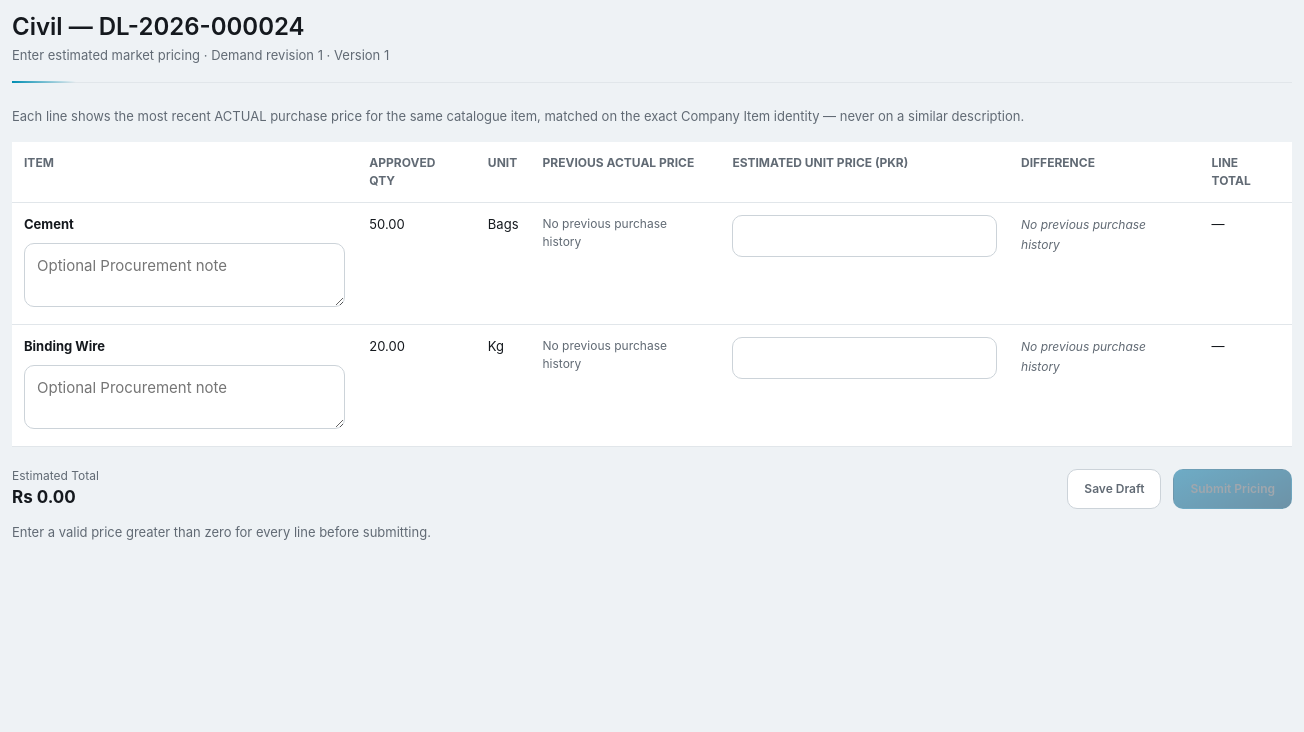
Test: PricingPage › calculates display-only line and overall totals
Type "1450.00" into the field named "Estimated unit price for Cement".
click(865, 236); type("1450.00")  # box 732,215 -> 997,257
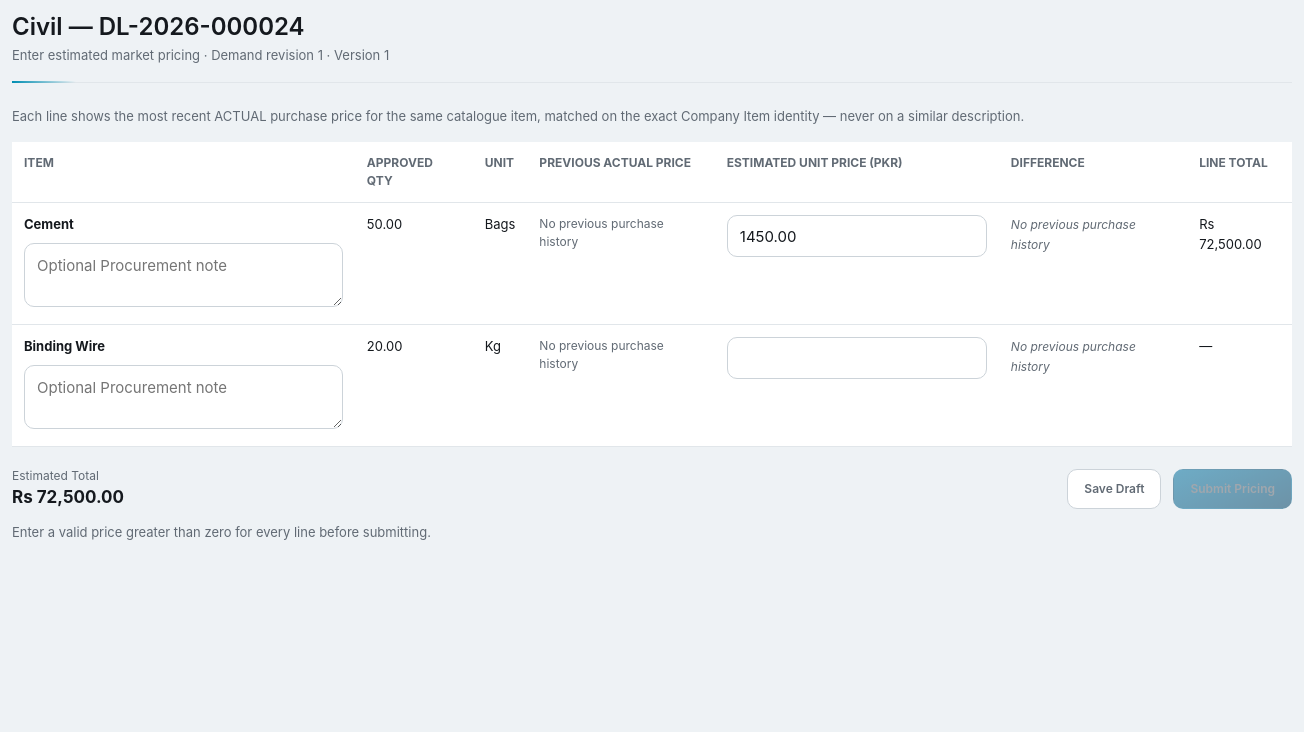
Type "620.00" into the field named "Estimated unit price for Binding Wire".
click(857, 358); type("620.00")  # box 727,337 -> 987,379
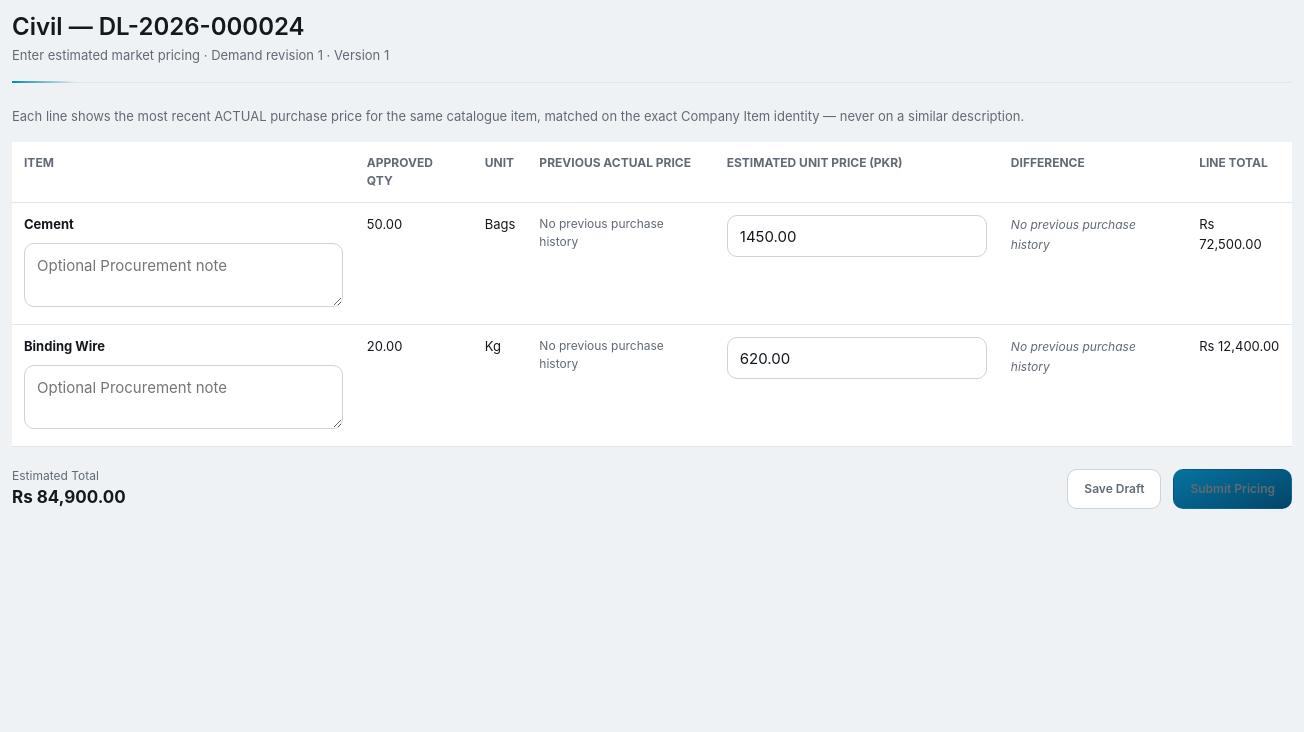
expect the text "Rs 72,500.00" is shown: met, box 1187,202 -> 1292,324
expect the text "Rs 12,400.00" is shown: met, box 1187,324 -> 1292,446
expect the text "Rs 84,900.00" is shown: met, box 12,485 -> 126,510
